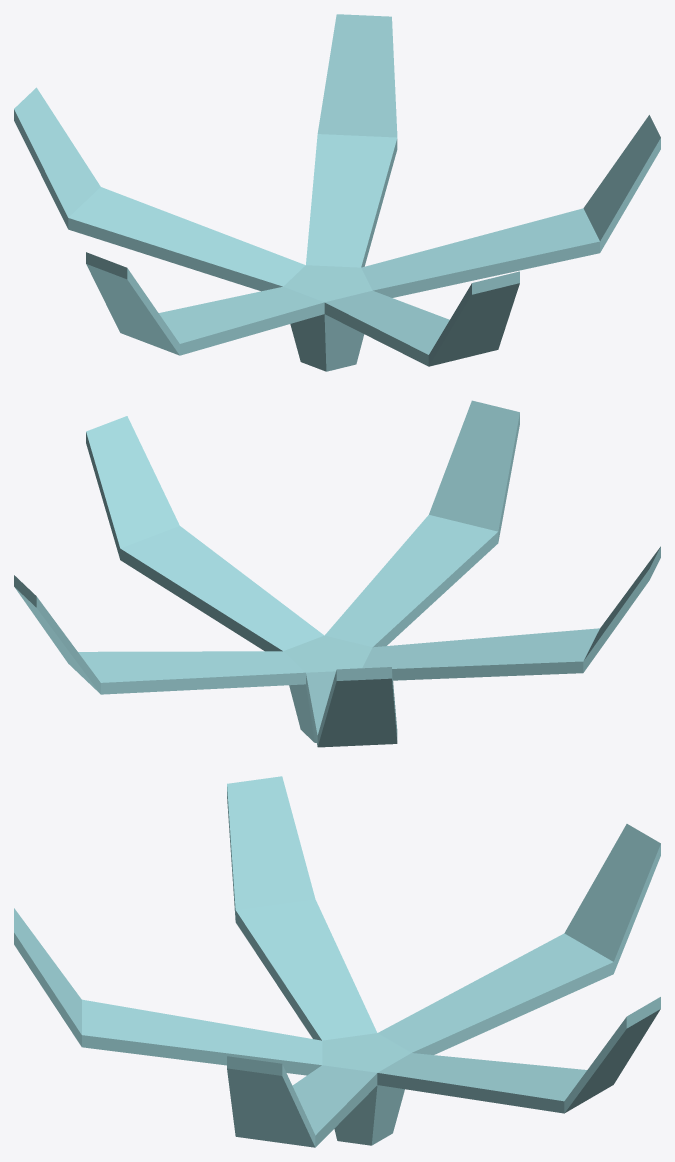
File: Grapplehook.fbx
The picture shows the model from 3 angles, top to bottom: view 1: azimuth 30°, elevation 25°; view 2: azimuth 150°, elevation 25°; view 3: azimuth 270°, elevation 25°; orthographic projection. The views are drawn at different scales.
Visible parts, largest first — view 1: Cone; view 2: Cone; view 3: Cone.
Boxes of the visible parts, x1,y1,x2,y2 form: Cone: [14, 14, 660, 371]; Cone: [14, 400, 660, 747]; Cone: [14, 776, 660, 1147].
Size of the model in its own units: 873 by 302 by 830.
